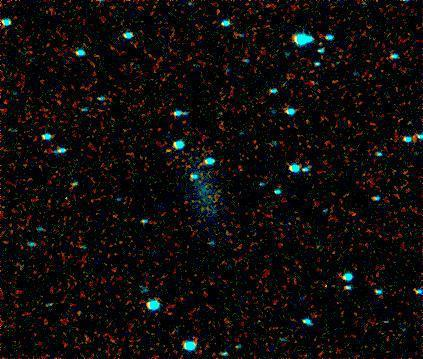star: (154, 137, 184, 167)
